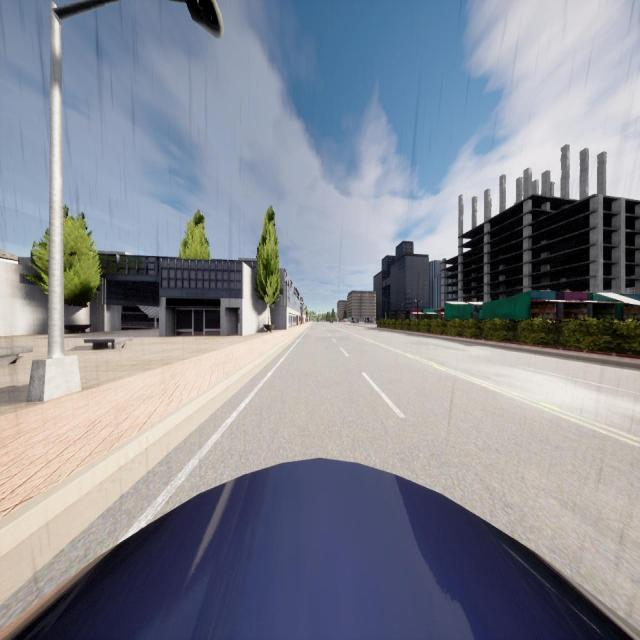Vehicle: (0, 456, 640, 638), (350, 318, 359, 324), (364, 320, 374, 324), (330, 320, 333, 323)
